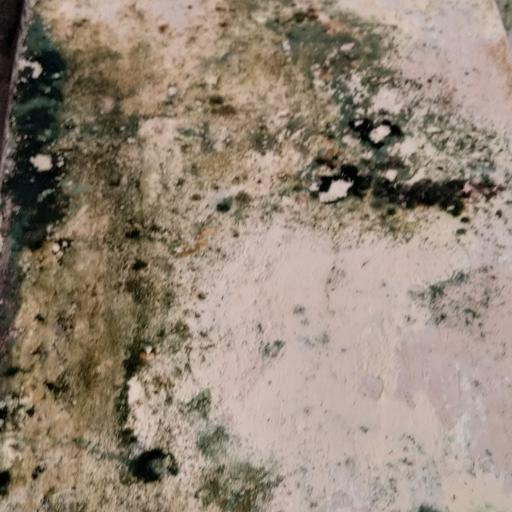algae: (12, 0, 285, 511)
